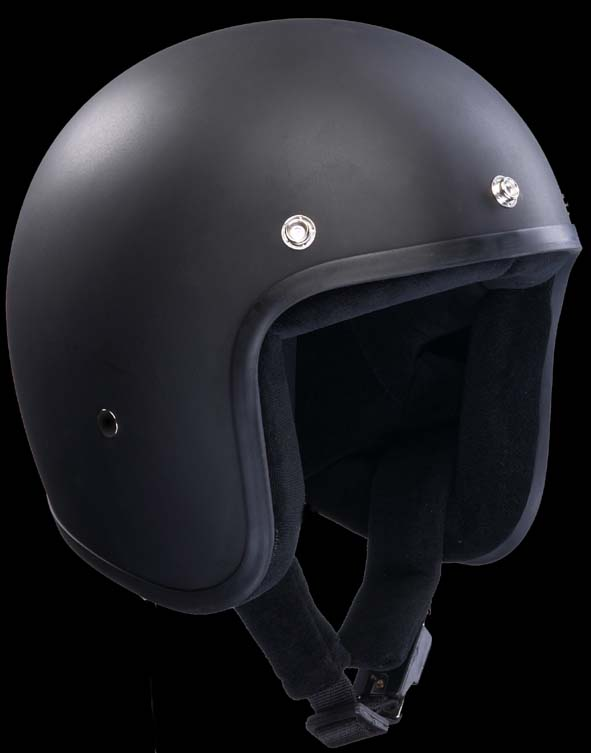helmet: (16, 16, 556, 590)
